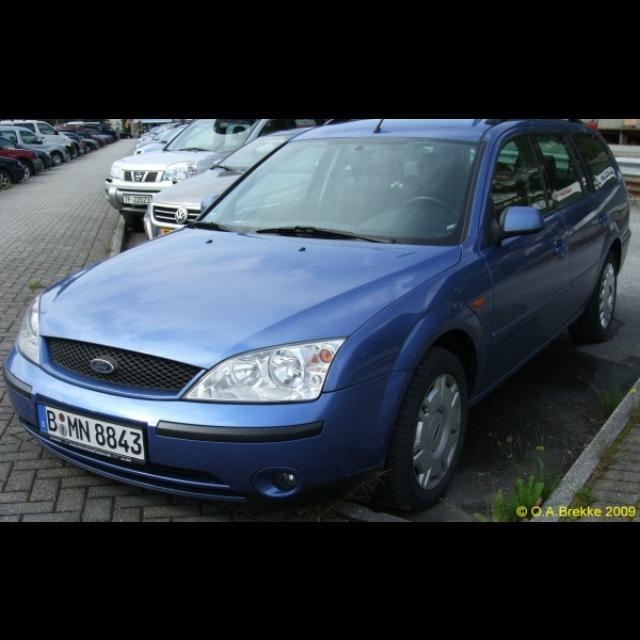license-plates: (38, 406, 144, 460)
